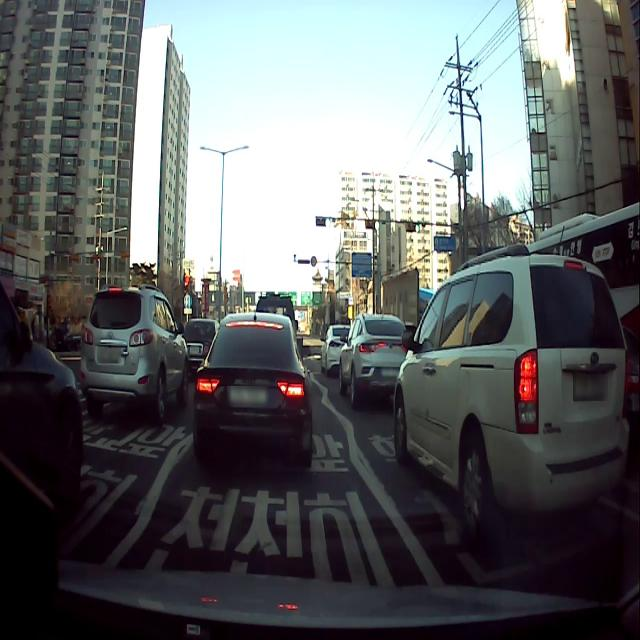Green Light: (324, 216, 332, 230), (414, 222, 420, 233), (374, 221, 380, 230)
